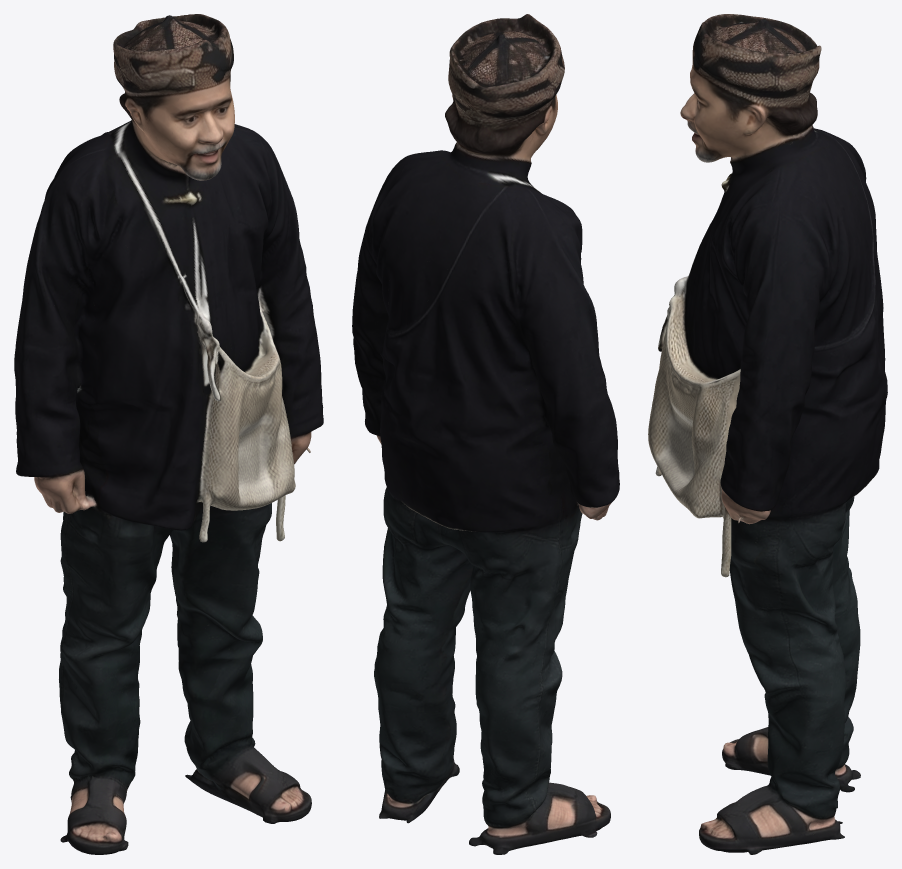
File: bah nanu.glb
The picture shows the model from 3 angles, left to right: view 1: azimuth 30°, elevation 25°; view 2: azimuth 150°, elevation 25°; view 3: azimuth 270°, elevation 25°; orthographic projection. The views are drawn at different scales.
Bounding box in the file's own units: 0.6876 × 1.9 × 0.5293.
1 material, 1 textured.
